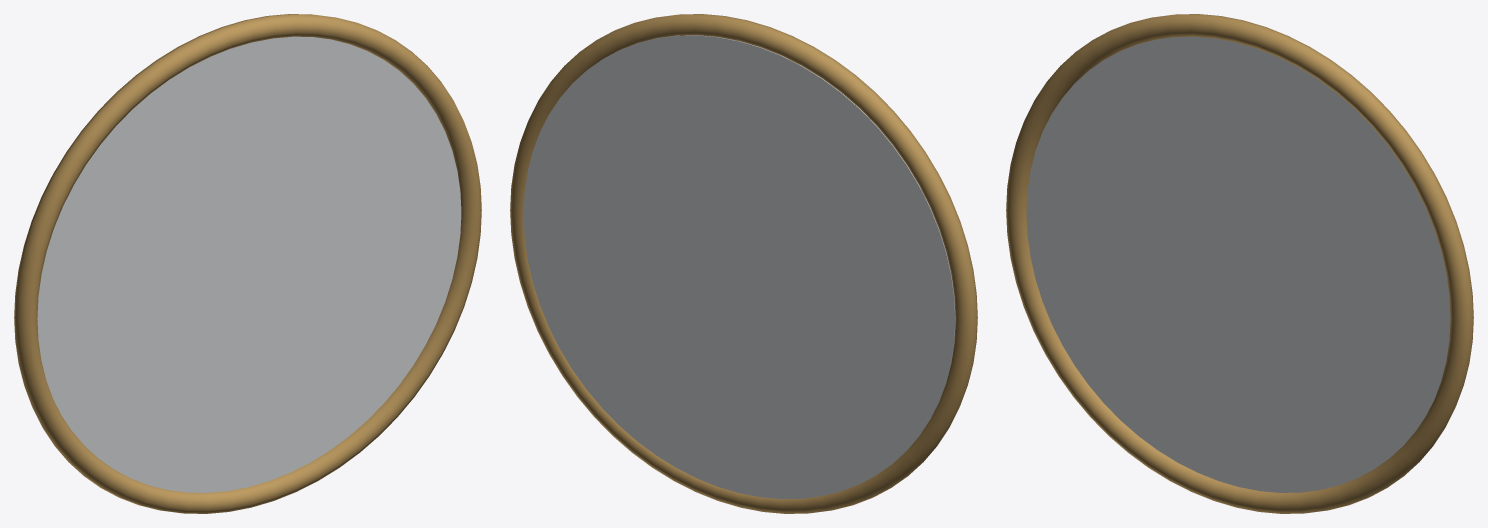
Rendered from espelho_parede.glb.
The picture shows the model from 3 angles, left to right: view 1: azimuth 30°, elevation 25°; view 2: azimuth 150°, elevation 25°; view 3: azimuth 330°, elevation 25°; orthographic projection.
Visible parts, largest first — view 1: p; view 2: p; view 3: p.
Boxes of the visible parts, box(x1,y1,x2,y2) form: p: box(14, 14, 481, 513); p: box(510, 14, 977, 513); p: box(1006, 14, 1473, 513).
Size of the model in its own units: 0.732 by 0.732 by 0.0304.
